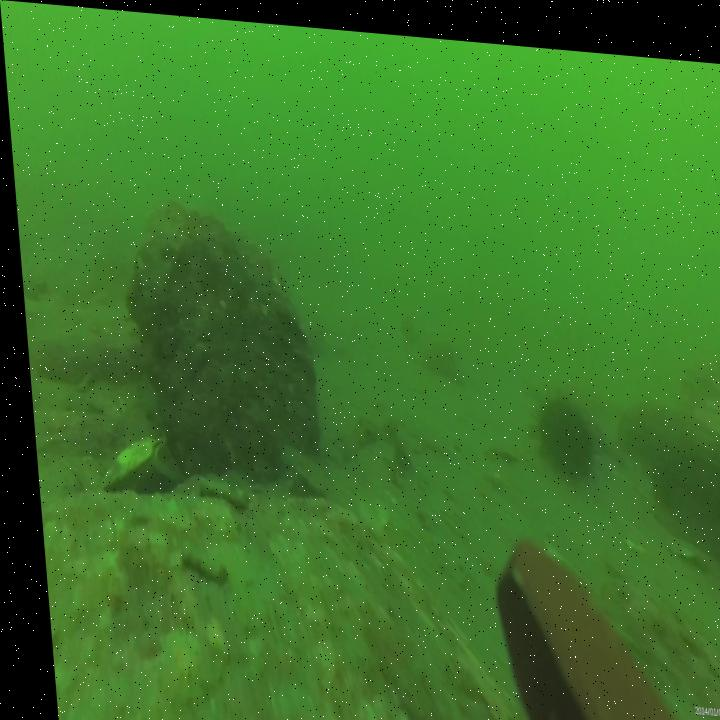echinus: (525, 379, 592, 477)
